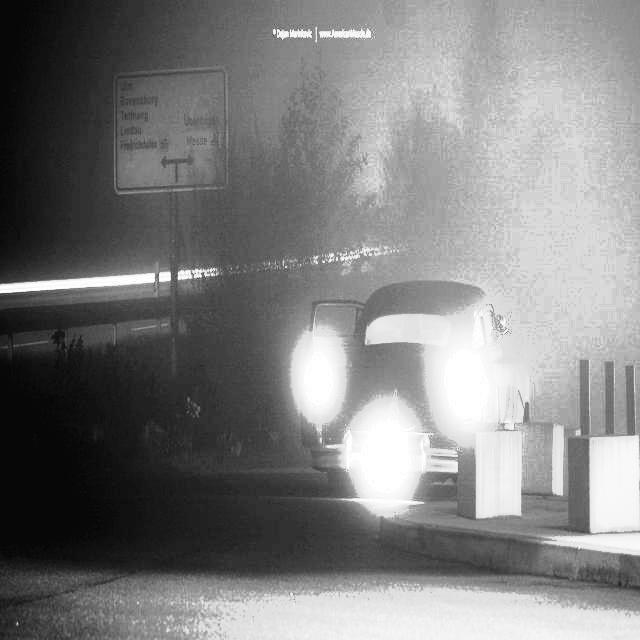Car: (295, 285, 538, 521)
